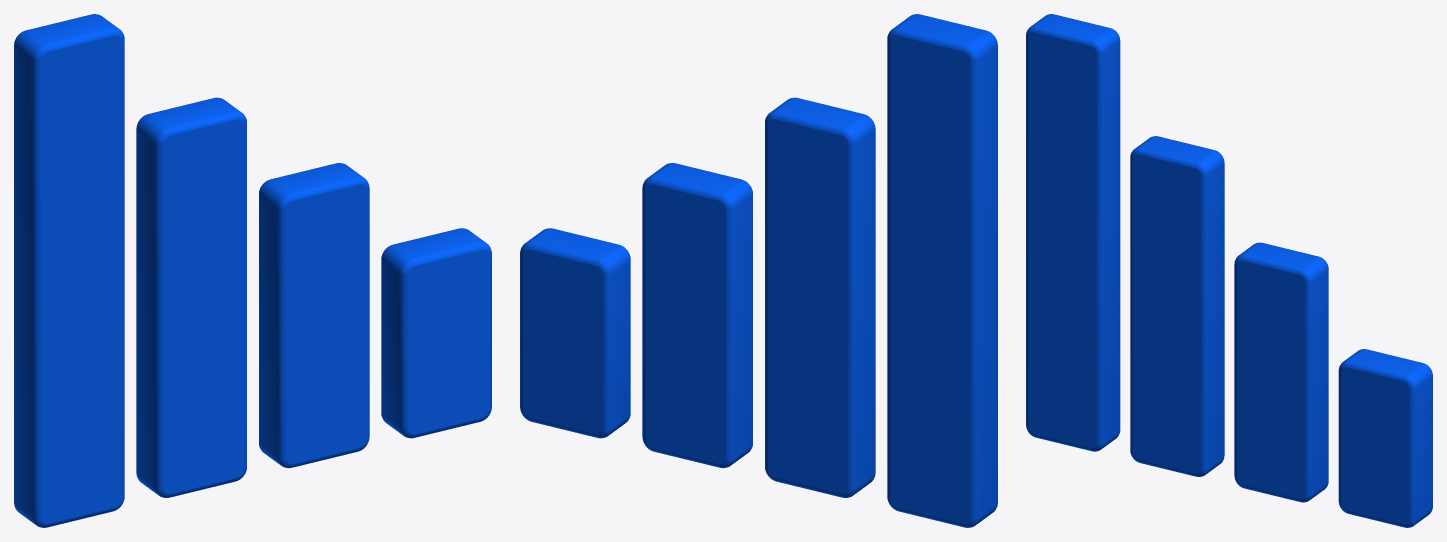
The model's file is 41-nodeworks-bar-chart.glb.
3 renders of one model, left to right at view 1: azimuth 30°, elevation 25°; view 2: azimuth 150°, elevation 25°; view 3: azimuth 330°, elevation 25°, orthographic. The views are drawn at different scales.
Parts seen in each view (by area): view 1: ascending_blue_bar_4, ascending_blue_bar_3, ascending_blue_bar_2, ascending_blue_bar_1; view 2: ascending_blue_bar_4, ascending_blue_bar_3, ascending_blue_bar_2, ascending_blue_bar_1; view 3: ascending_blue_bar_4, ascending_blue_bar_3, ascending_blue_bar_2, ascending_blue_bar_1.
Boxes of the visible parts, x1=… form: ascending_blue_bar_4: x1=14, y1=14, x2=124, y2=527; ascending_blue_bar_3: x1=136, y1=97, x2=246, y2=497; ascending_blue_bar_2: x1=259, y1=163, x2=369, y2=468; ascending_blue_bar_1: x1=381, y1=228, x2=491, y2=438; ascending_blue_bar_4: x1=887, y1=14, x2=997, y2=527; ascending_blue_bar_3: x1=765, y1=97, x2=875, y2=497; ascending_blue_bar_2: x1=642, y1=163, x2=752, y2=468; ascending_blue_bar_1: x1=520, y1=228, x2=630, y2=438; ascending_blue_bar_4: x1=1026, y1=14, x2=1120, y2=451; ascending_blue_bar_3: x1=1130, y1=136, x2=1224, y2=476; ascending_blue_bar_2: x1=1234, y1=242, x2=1328, y2=502; ascending_blue_bar_1: x1=1338, y1=349, x2=1432, y2=527.
Bounding box in the file's own units: 0.131 × 0.132 × 0.012.
